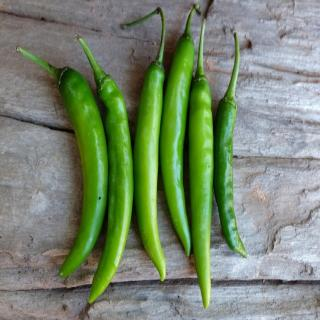Cabai Hijau: (16, 45, 110, 282), (75, 34, 135, 305)
